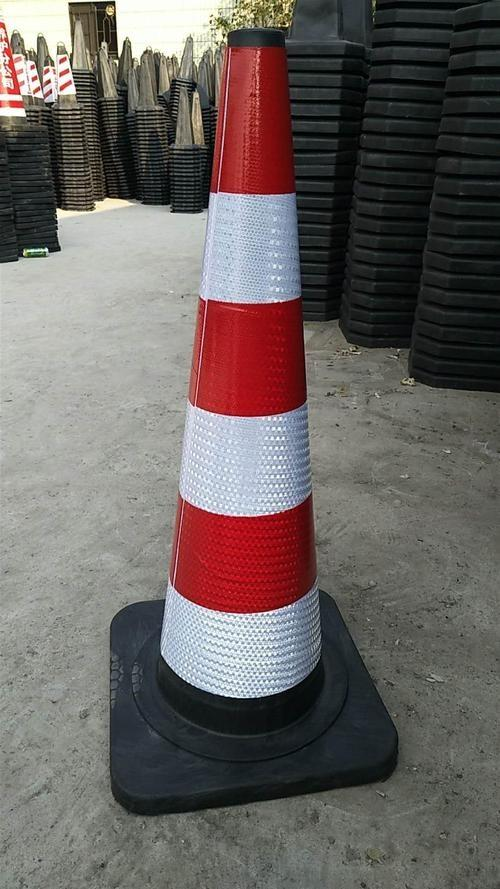cone_barrel: (145, 24, 352, 793), (51, 40, 78, 107)
